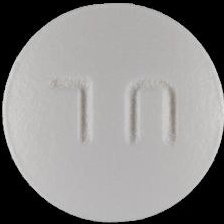10544-174: (0, 0, 224, 224)
